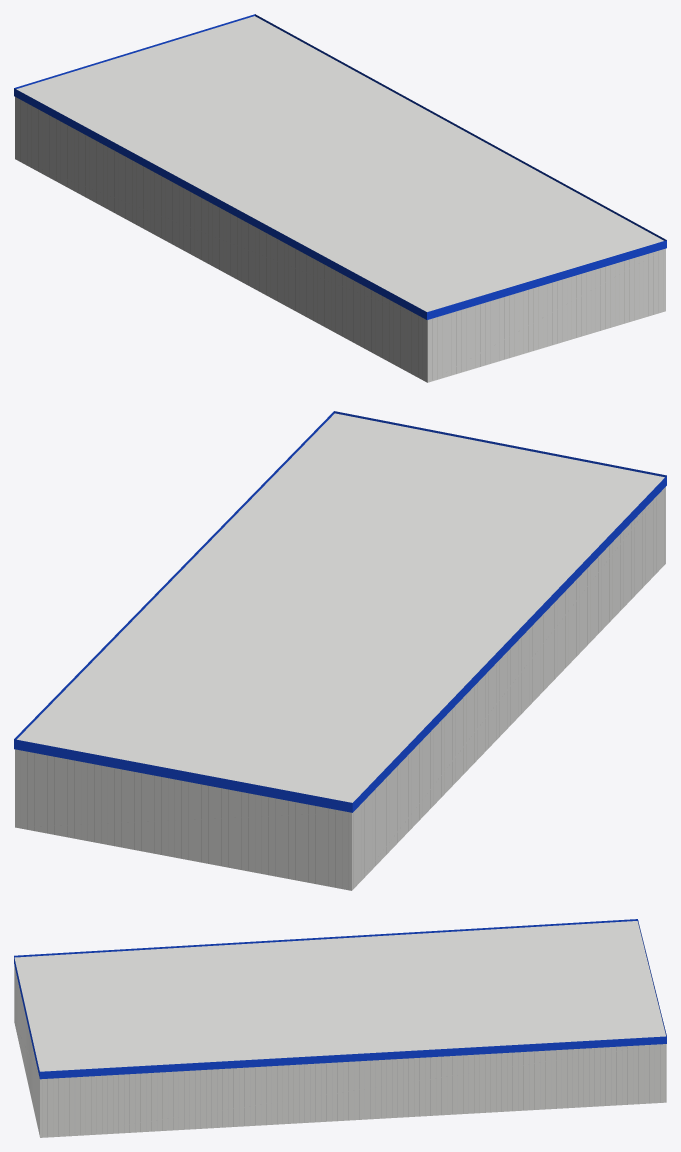
3 renders of one model, top to bottom at view 1: azimuth 30°, elevation 25°; view 2: azimuth 150°, elevation 25°; view 3: azimuth 270°, elevation 25°, orthographic. The views are drawn at different scales.
Parts seen in each view (by area): view 1: wh roof, wh walls, wh eave band; view 2: wh roof, wh walls, wh eave band; view 3: wh roof, wh walls, wh eave band.
Part boxes in pixels (x1=…): wh roof: x1=16, y1=16, x2=663, y2=311; wh walls: x1=15, y1=97, x2=665, y2=382; wh eave band: x1=14, y1=14, x2=666, y2=319; wh roof: x1=17, y1=413, x2=664, y2=802; wh walls: x1=15, y1=487, x2=665, y2=890; wh eave band: x1=14, y1=411, x2=666, y2=812; wh roof: x1=14, y1=921, x2=665, y2=1071; wh walls: x1=14, y1=965, x2=666, y2=1137; wh eave band: x1=14, y1=919, x2=666, y2=1079.
Size of the model in its own units: 65.47 by 13.3 by 118.
Materials: 3 (1 with a texture image).
